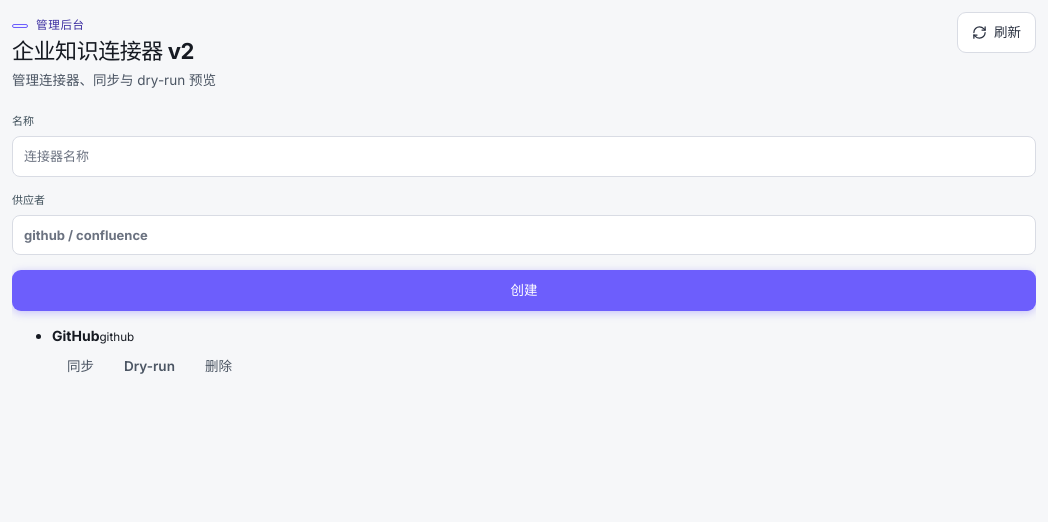
Test case: AdminConnectorsPage › 点击 dry-run 按钮展示预览结果
Click the button with test id "connectors-dryrun-c-1" at (149, 367), box [109, 346, 190, 387]
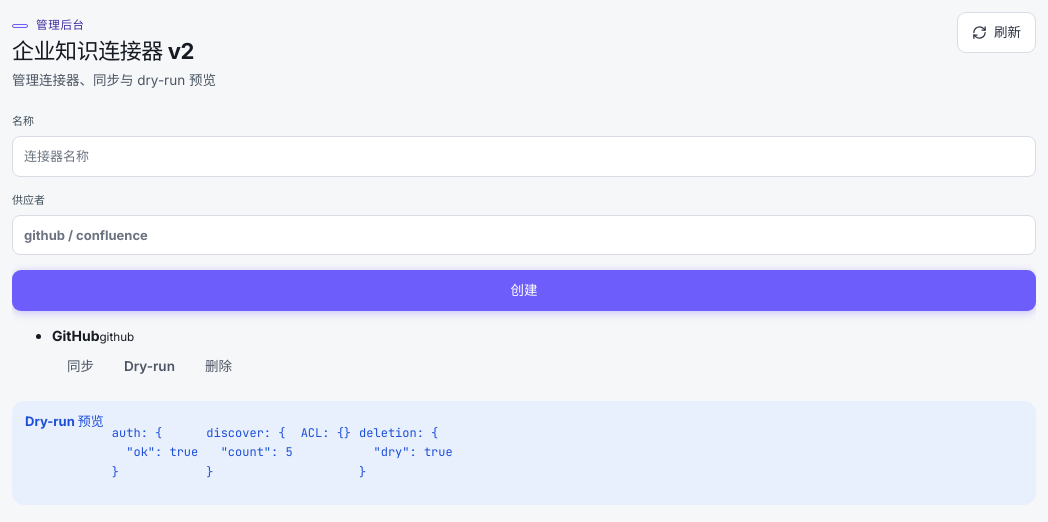
Expected: the element with test id "connectors-dryrun-result" is shown, [12, 401, 1036, 505]
